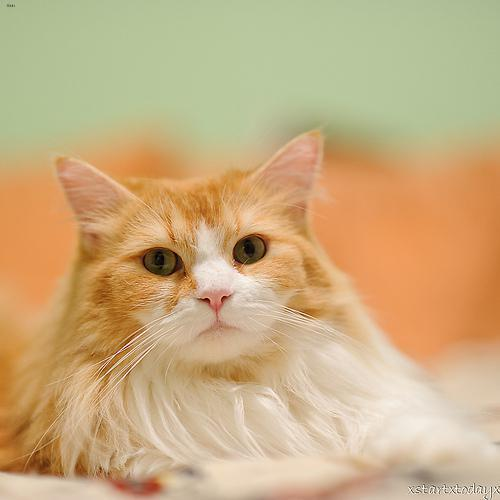cat: (28, 129, 490, 481)
